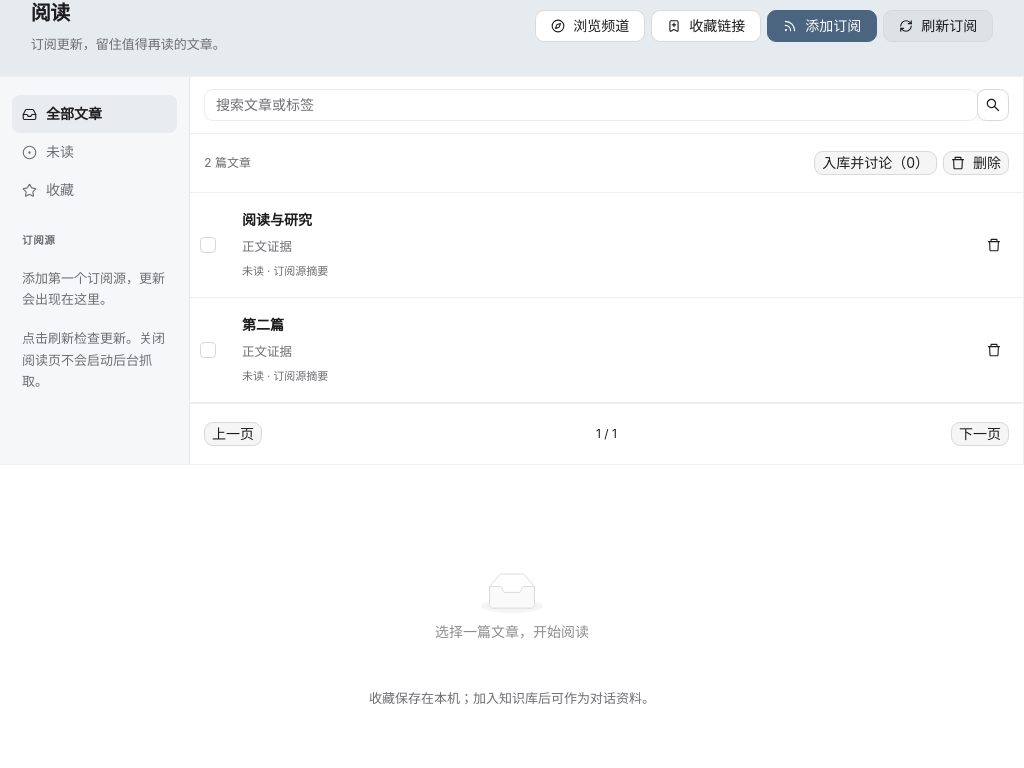
Test: Reading library › ignores old article requests after another article is selected
The width and height of the screenshot is (1024, 768).
(page scrolled)
Click the button "阅读与研究 正文证据 未读 · 订阅源摘要". click: (277, 220)
box: [232,197,975,293]
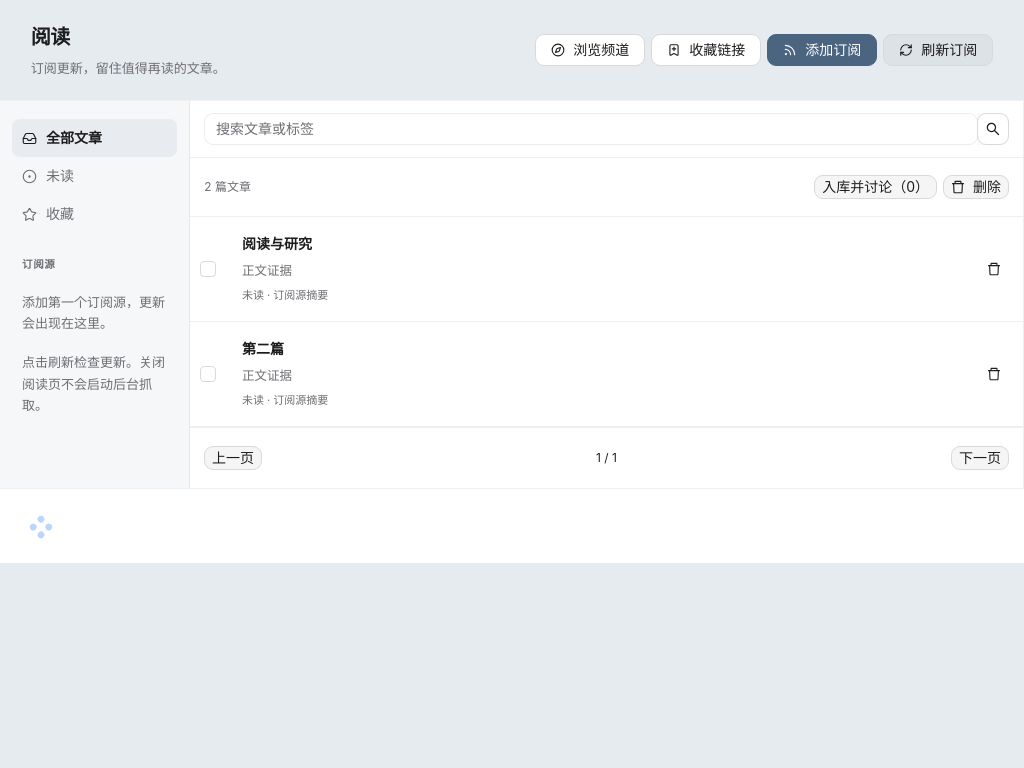
Click the button "第二篇 正文证据 未读 · 订阅源摘要". click: (263, 349)
box: [232,326,975,422]
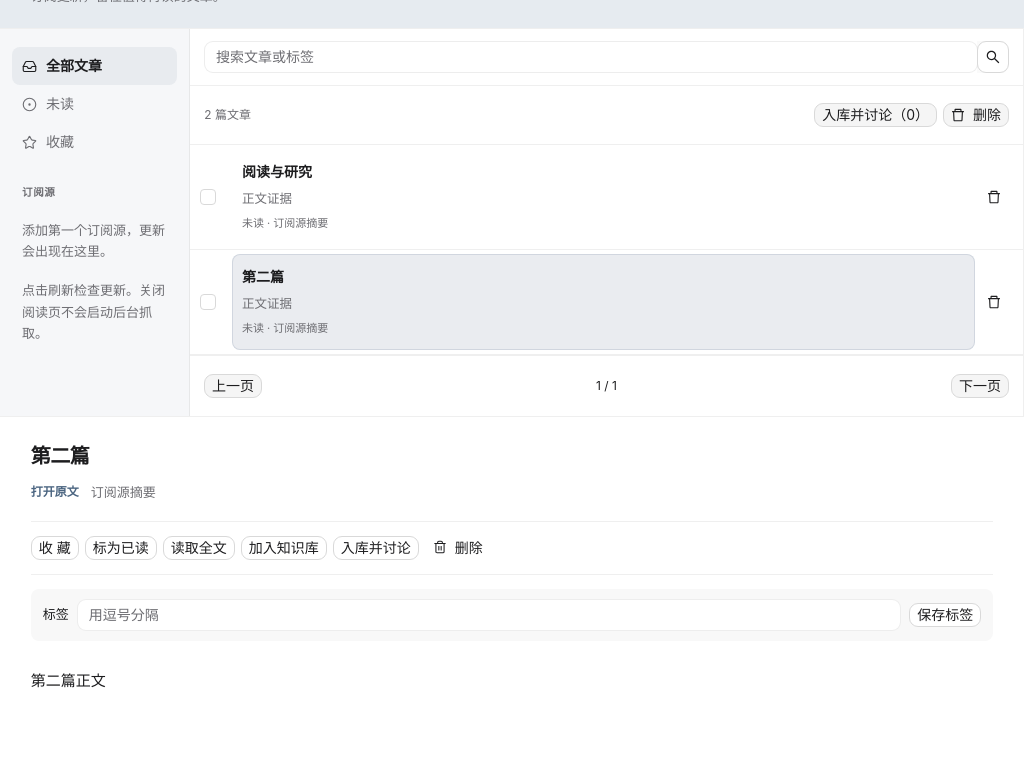
Expected: the element showing "第二篇 打开原文 订阅源摘要 收 藏 标为已读 读取全文 加入知识库 入库并讨论 删除 标签 保存标签 第二篇正文" does not show "正文证据", [0,416,1023,767]
Expected: the heading "第二篇" is shown, [31,444,89,468]
Expected: the element showing "第二篇 打开原文 订阅源摘要 收 藏 标为已读 读取全文 加入知识库 入库并讨论 删除 标签 保存标签 第二篇正文" is shown, [0,416,1023,767]
